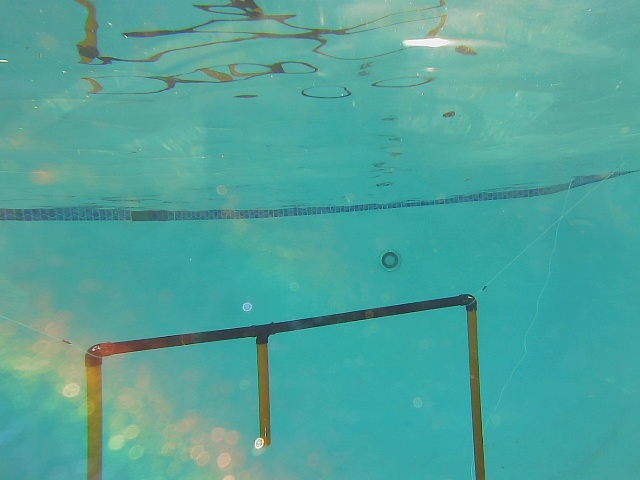Gate: (462, 302, 493, 480), (81, 355, 114, 480), (252, 331, 272, 447)
